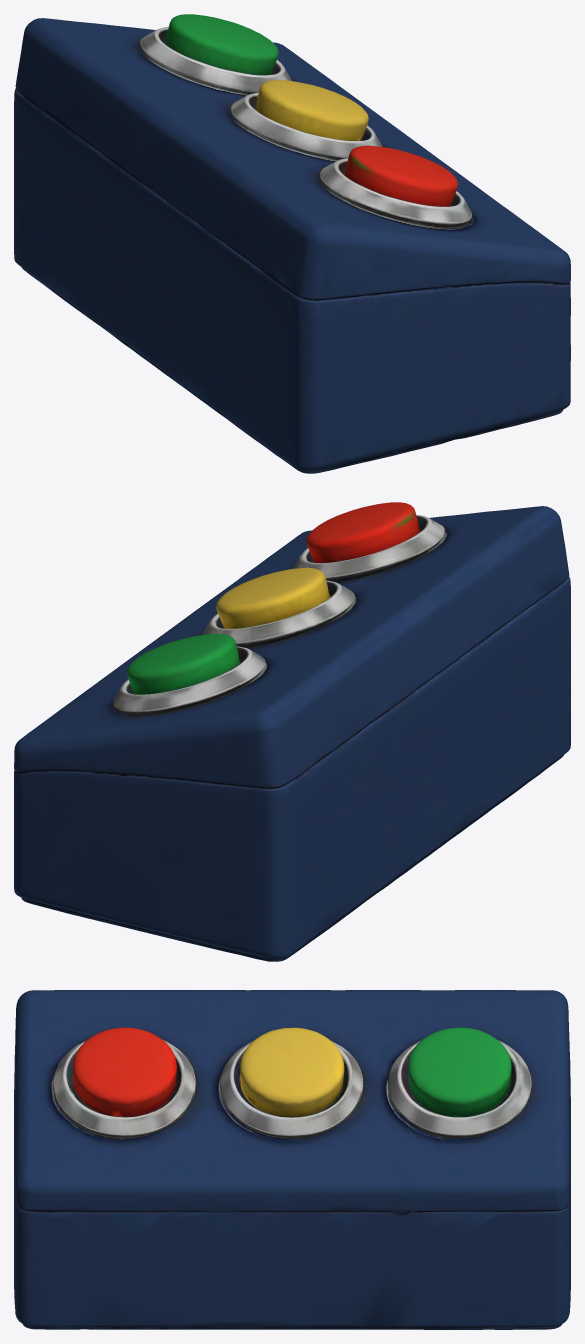
File: panel.glb
3 views of the same model, one above another, from view 1: azimuth 30°, elevation 25°; view 2: azimuth 150°, elevation 25°; view 3: azimuth 270°, elevation 25° (orthographic). The views are drawn at different scales.
Parts seen in each view (by area): view 1: tripo_node_a8bfd497-9d8b-429b-b3c5-28375831262e; view 2: tripo_node_a8bfd497-9d8b-429b-b3c5-28375831262e; view 3: tripo_node_a8bfd497-9d8b-429b-b3c5-28375831262e.
Boxes of the visible parts, x1=… form: tripo_node_a8bfd497-9d8b-429b-b3c5-28375831262e: x1=14, y1=14, x2=570, y2=473; tripo_node_a8bfd497-9d8b-429b-b3c5-28375831262e: x1=14, y1=502, x2=570, y2=961; tripo_node_a8bfd497-9d8b-429b-b3c5-28375831262e: x1=14, y1=990, x2=570, y2=1329.
Size of the model in its own units: 0.5301 by 0.473 by 0.9999.
1 material, 1 textured.
